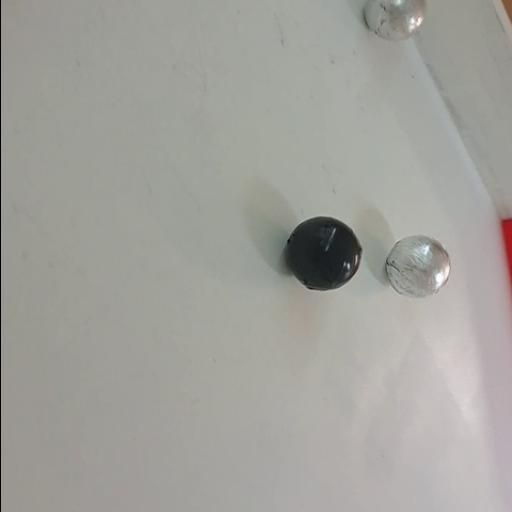alive: (384, 234, 450, 298), (364, 0, 426, 41)
dead: (284, 216, 362, 292)
